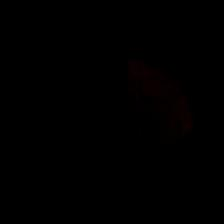fertile: (30, 52, 196, 166)
